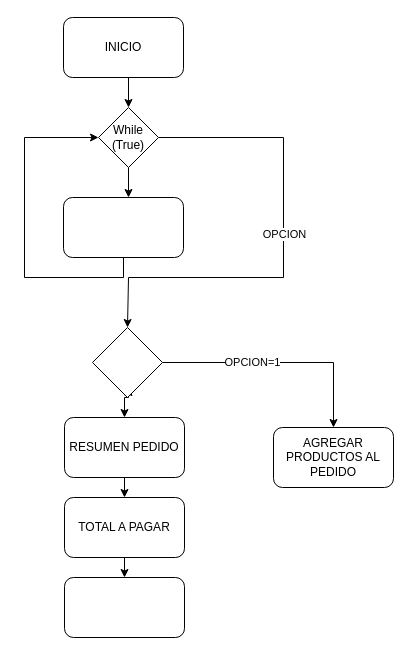
The diagram is 411 pixels wide and 655 high, and some of its shapes have lost their labels. The centre of each missing label's shape, as x and y in pixels:
"FIN" goes at [124,607].
"MENU REGISTRO PEDIDO" goes at [123,227].
"OPCION=2" goes at [127,362].
